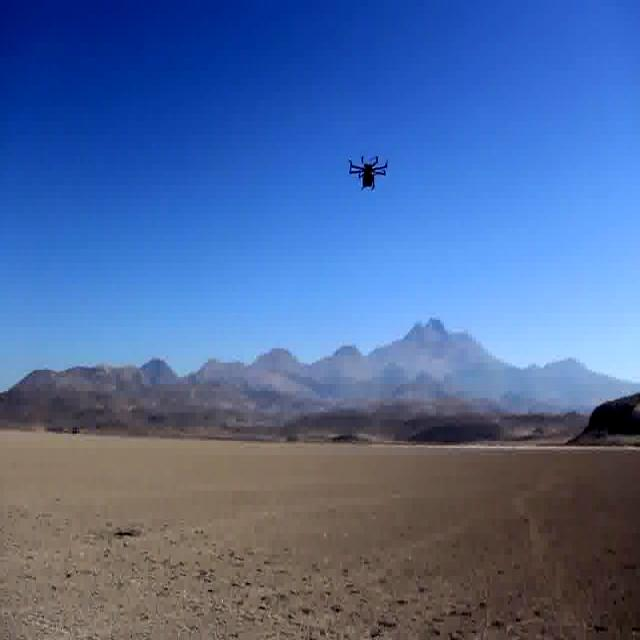drone: (346, 149, 393, 200)
